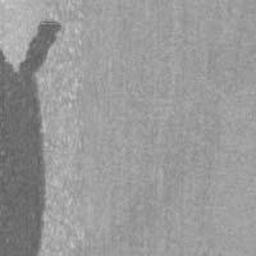Water spot: (0, 17, 64, 256)
